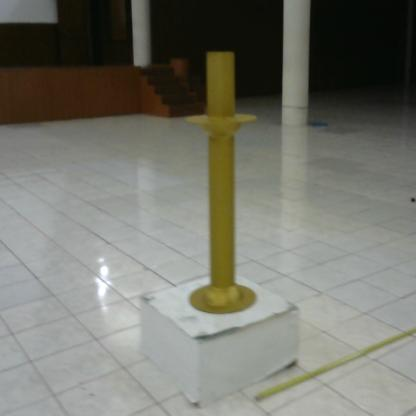pole: (182, 49, 268, 323)
